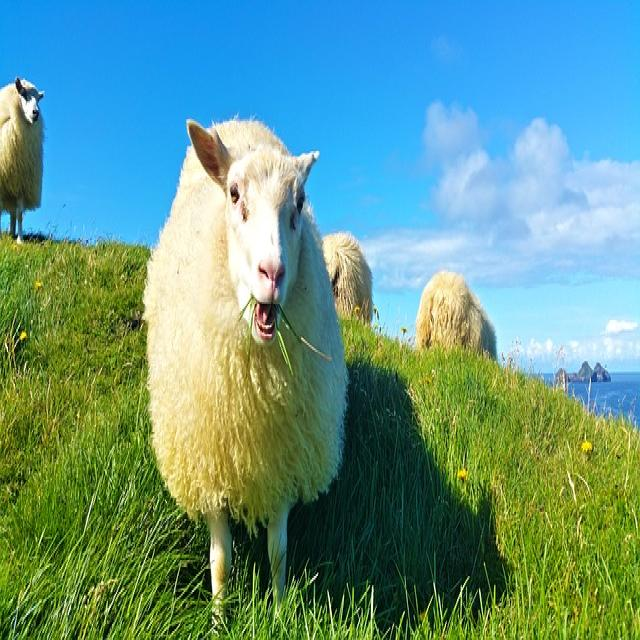goat: (144, 120, 344, 608), (0, 78, 44, 243), (418, 273, 496, 359)
